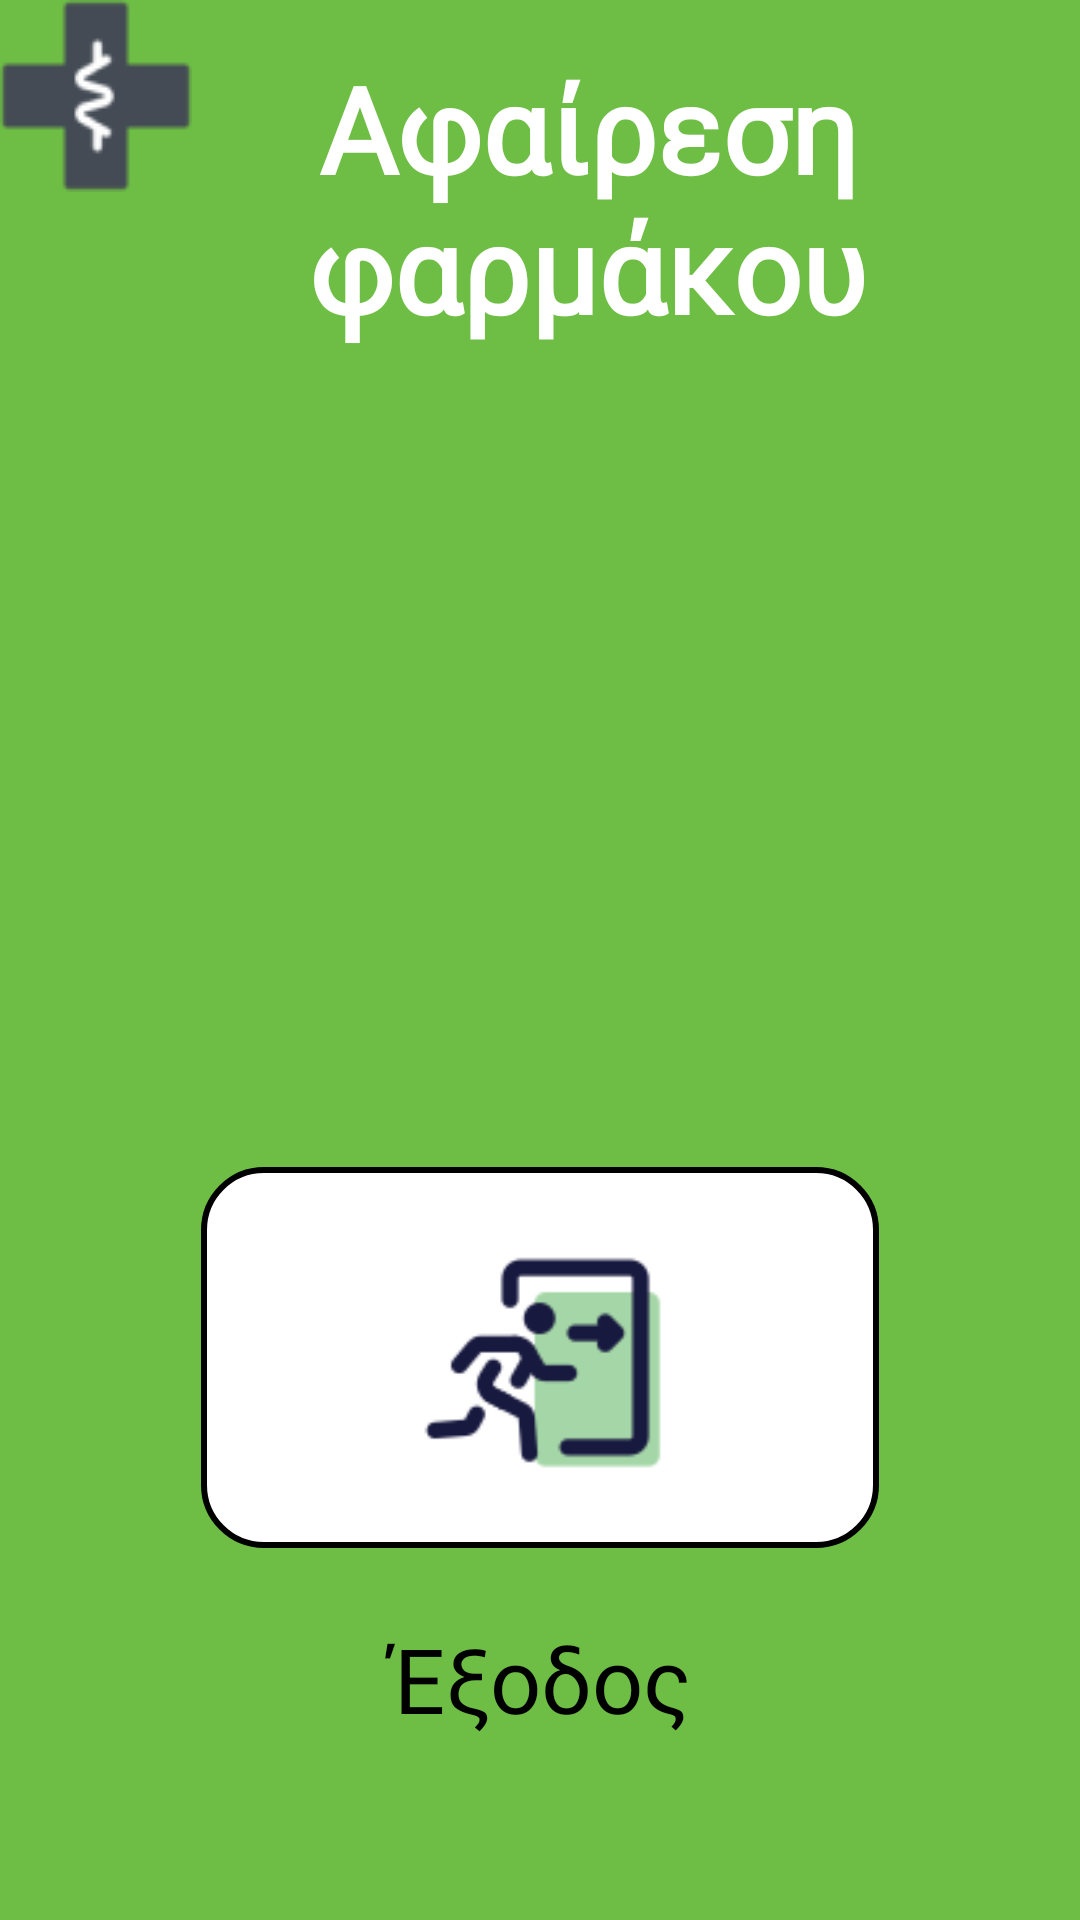

Icon click points for this 1080px×1920px phone screenshot, format (x,y):
hospital: (96,96)
